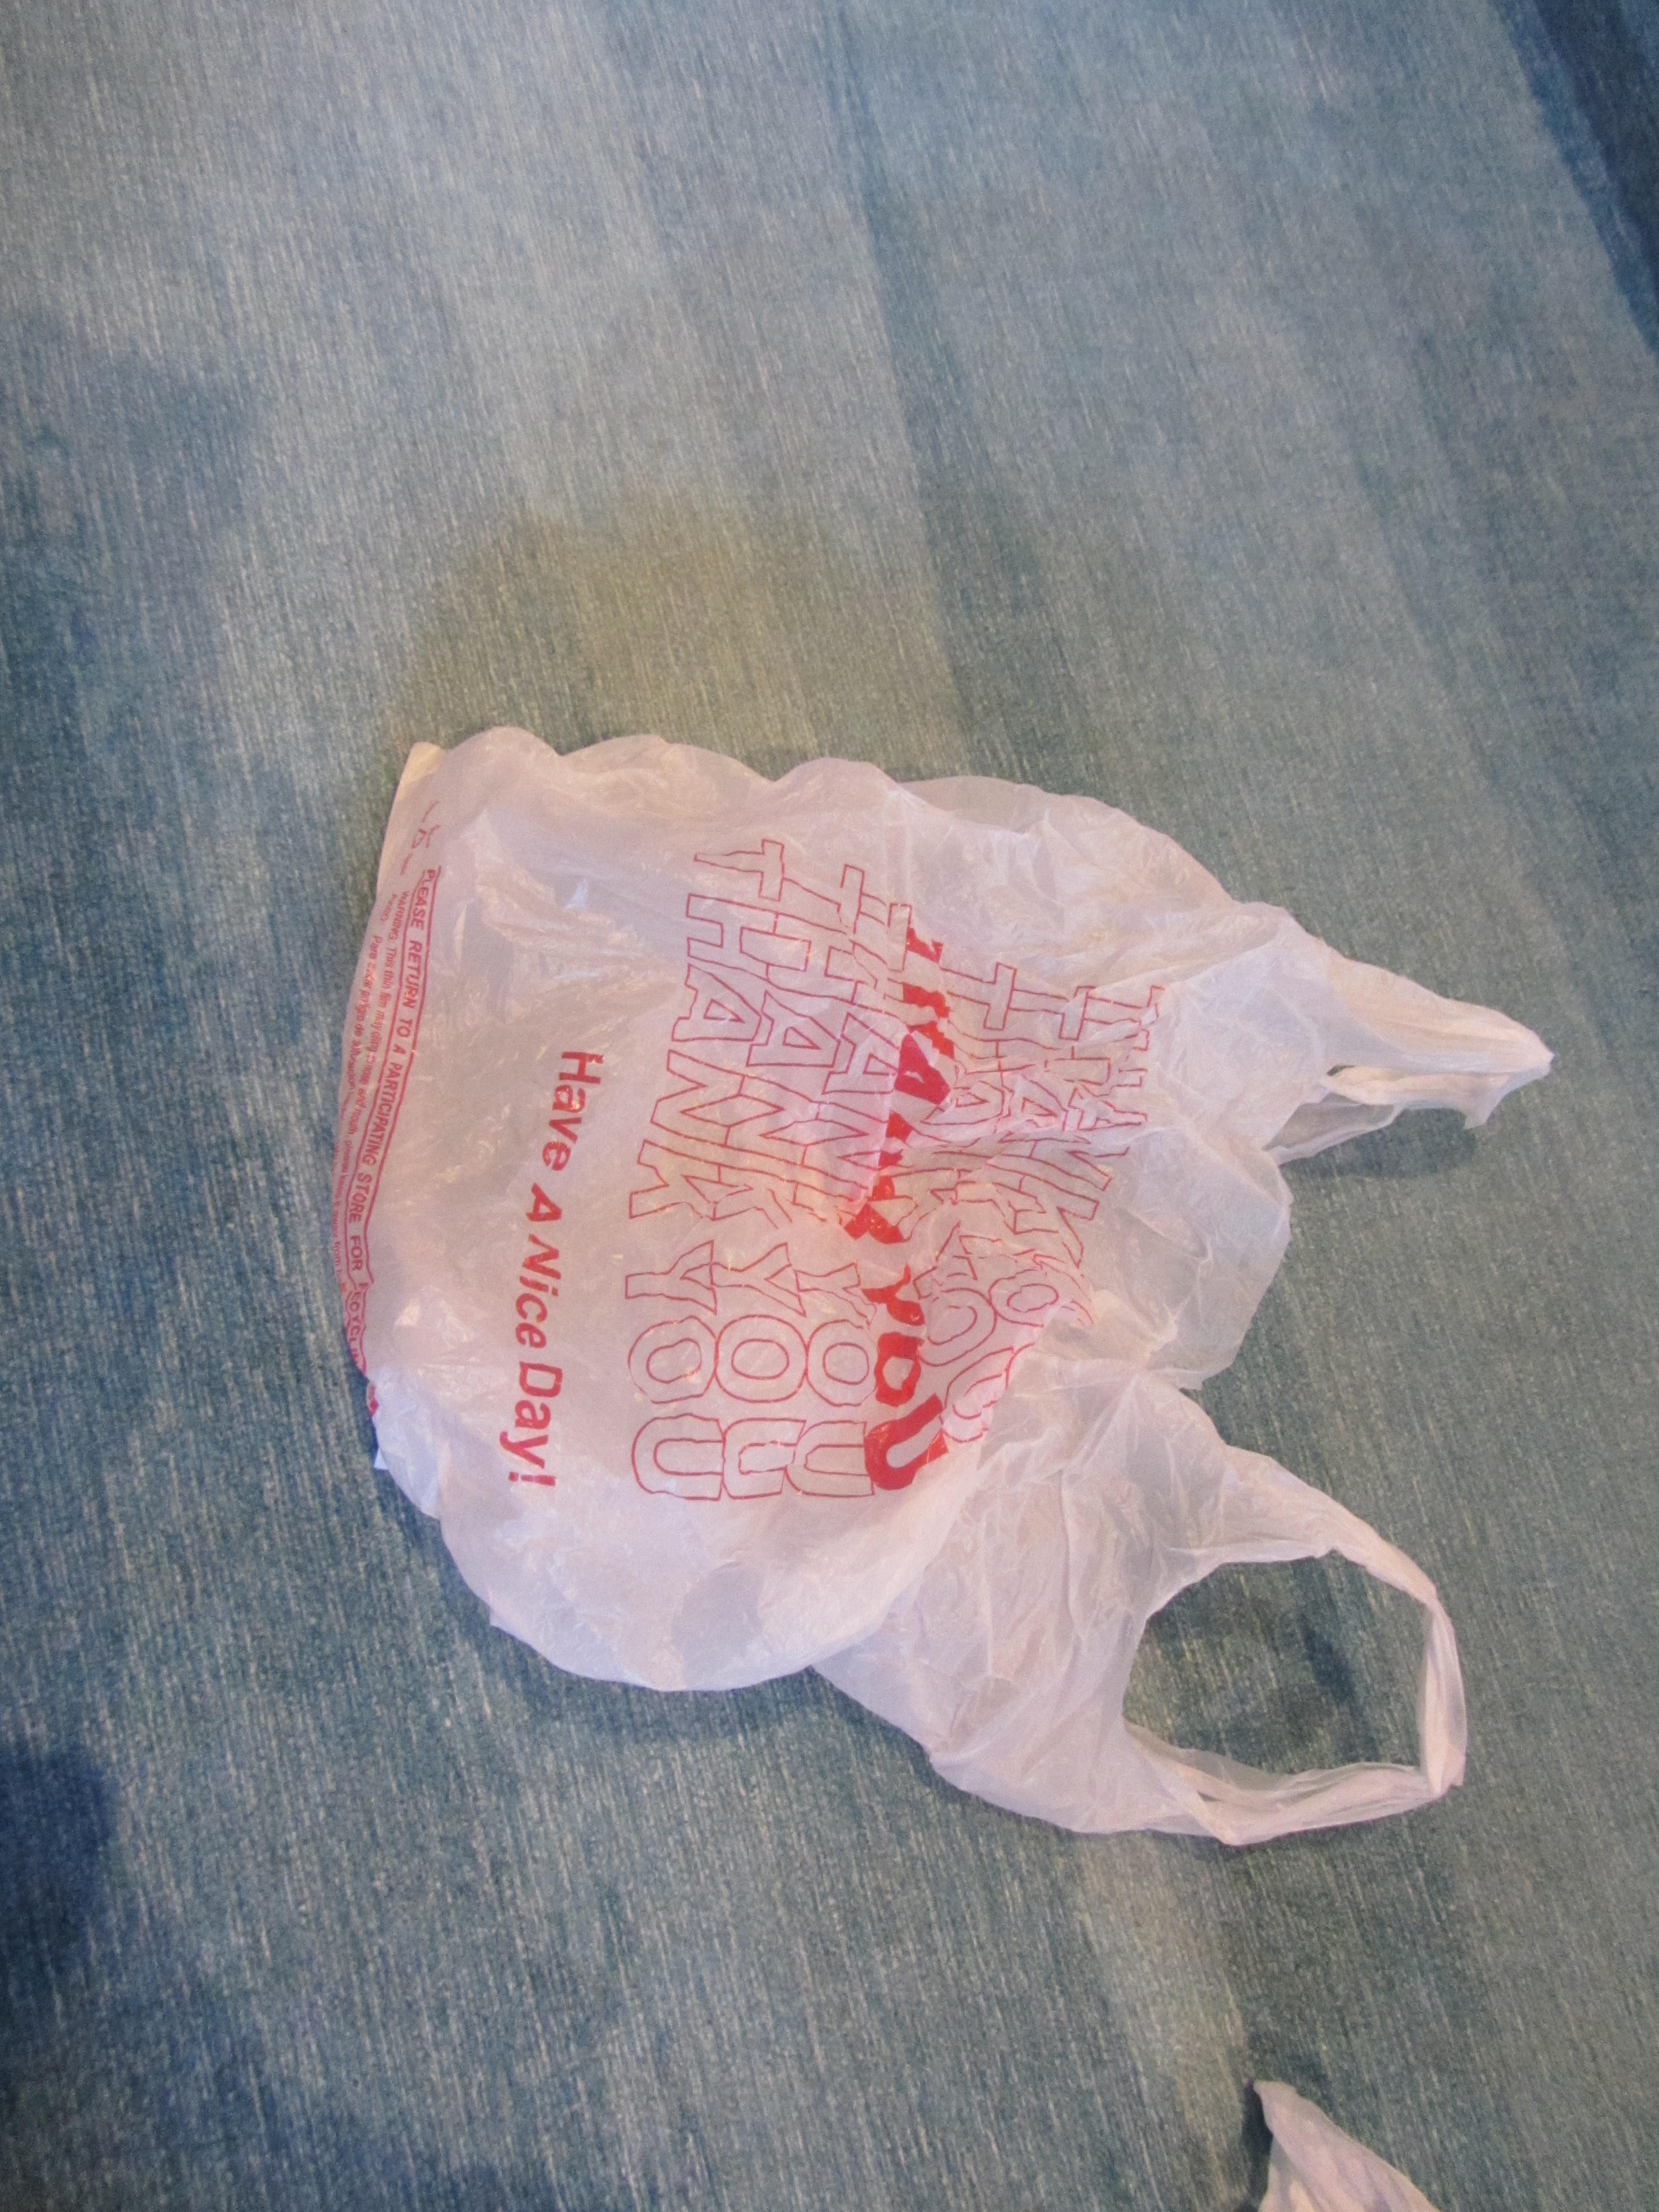plastic_bag: (315, 709, 1532, 1825)
